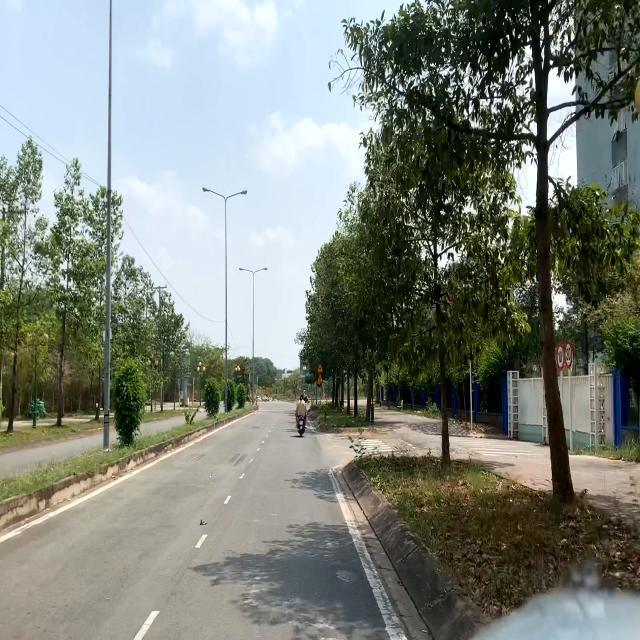Duong giao nhau cung cap: (316, 362, 324, 373)
Nguoi di bo cat ngang: (317, 374, 323, 382)
